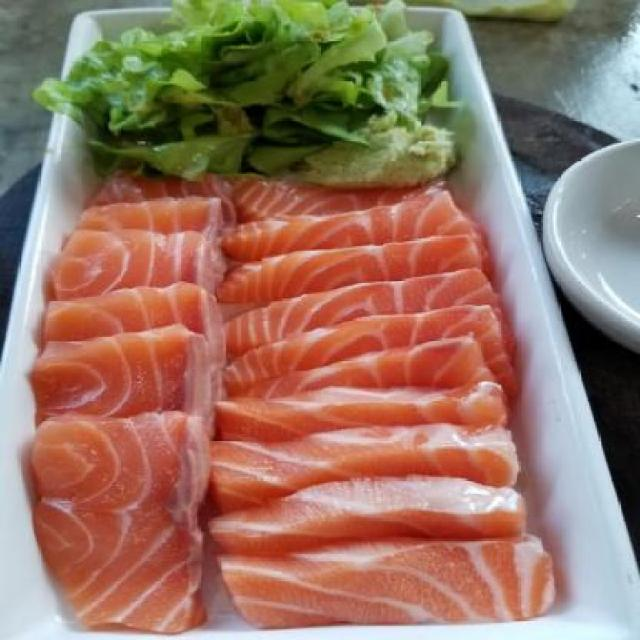salmon: (230, 164, 549, 640), (54, 169, 211, 639)
